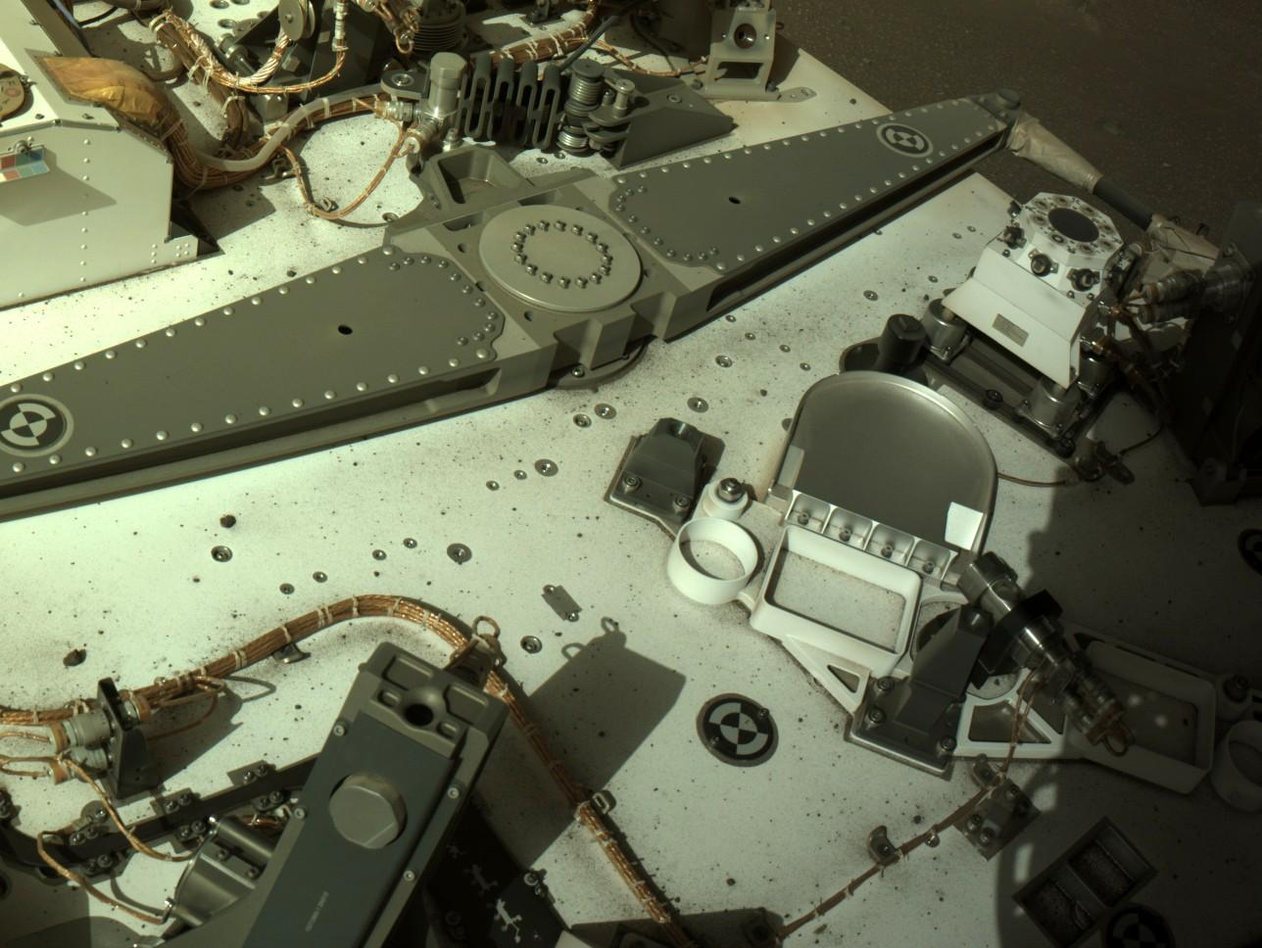soil: (771, 4, 1257, 260)
